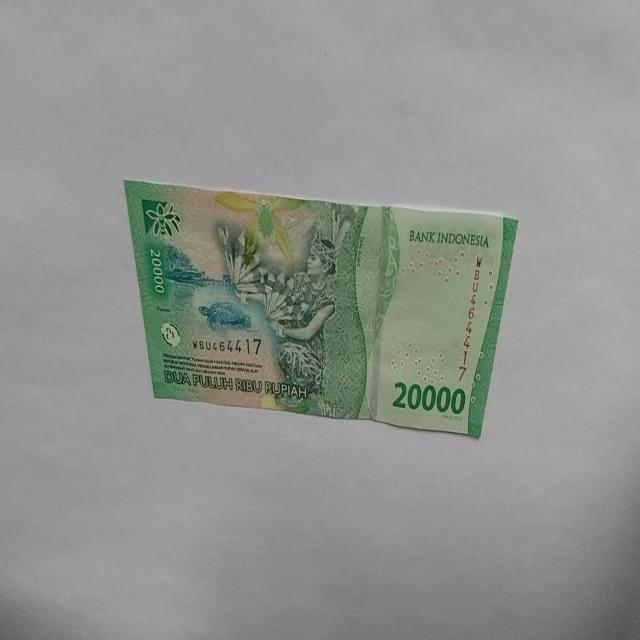dua puluh ribu rupiah: (122, 177, 518, 440)
